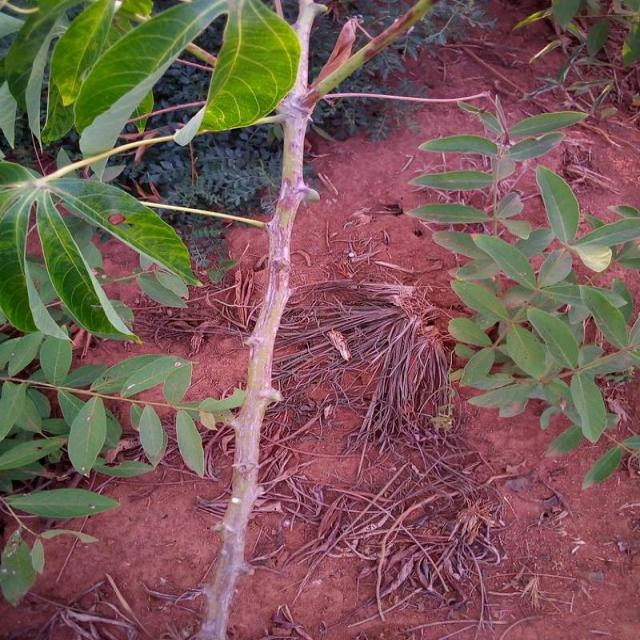cassava leaf: (0, 156, 200, 344), (172, 0, 301, 147)
